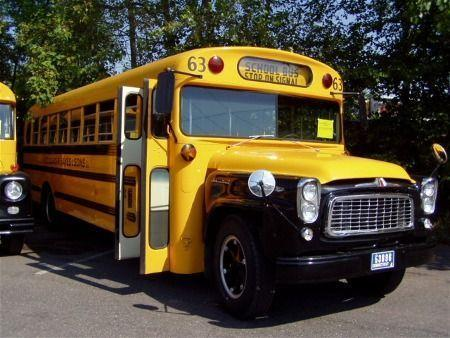Bus: (19, 46, 431, 321)
